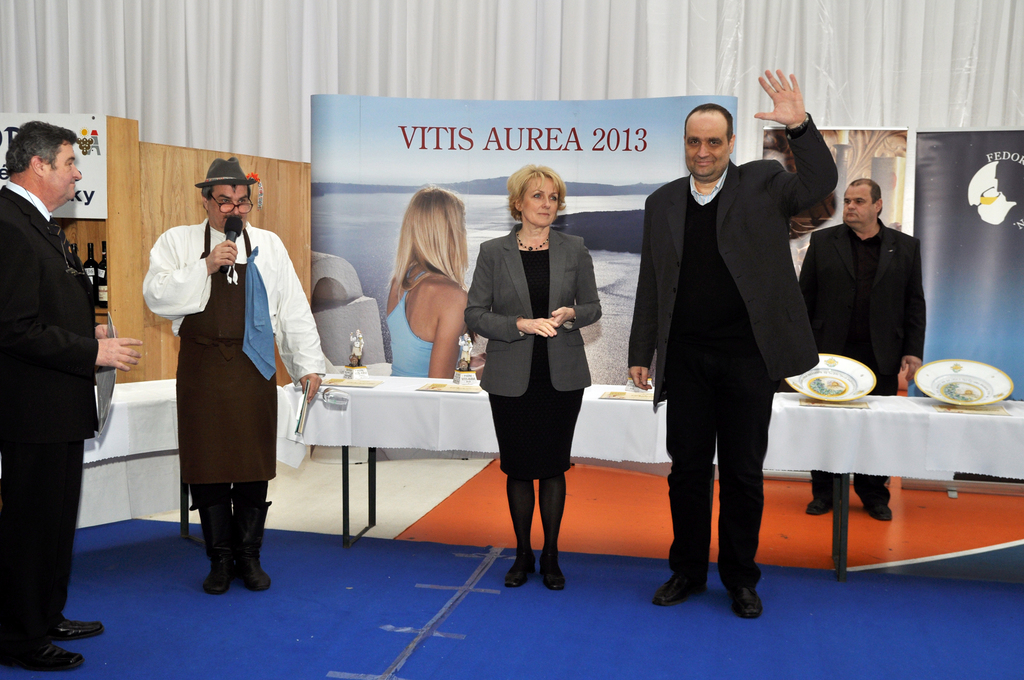Footwear: (189, 518, 255, 601), (235, 497, 279, 602), (5, 638, 89, 676), (656, 548, 707, 604), (724, 564, 762, 622), (52, 610, 105, 639), (858, 487, 899, 522), (539, 544, 569, 590), (502, 547, 531, 587), (806, 482, 836, 514)
